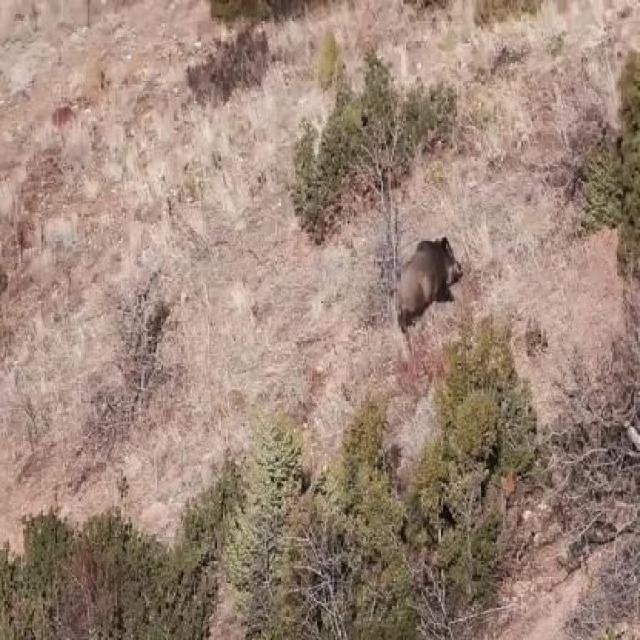Boar: (389, 226, 482, 362)
